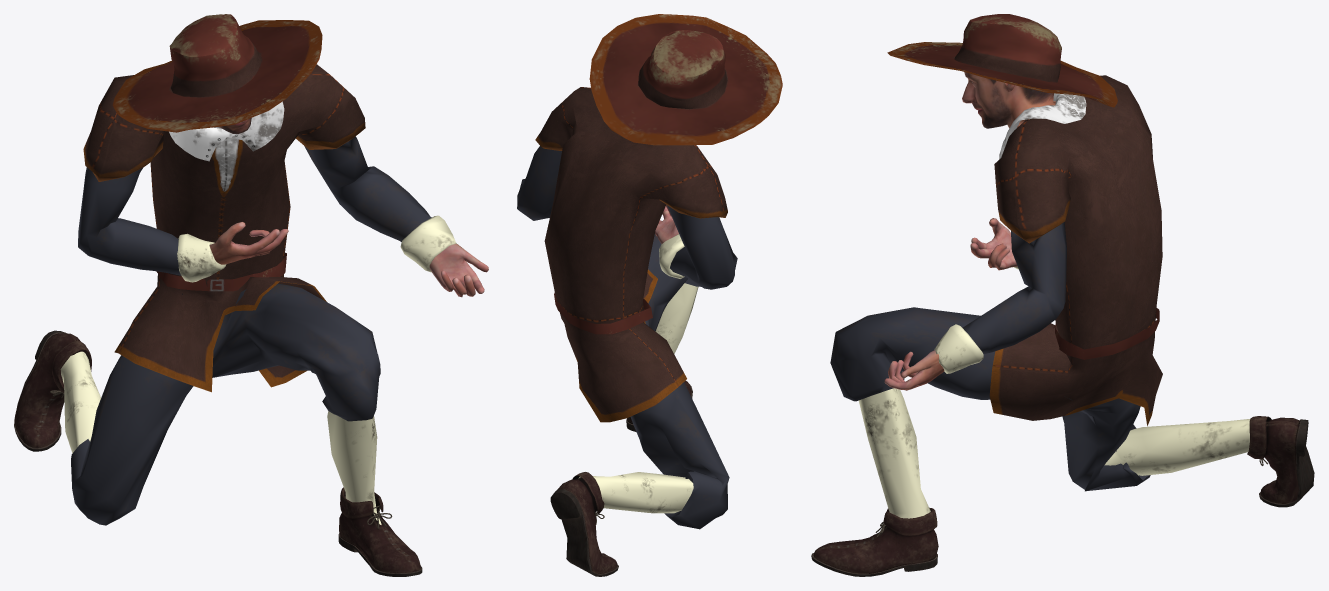
The model's file is CrouchNoAimSoldierSample.fbx.
The picture shows the model from 3 angles, left to right: view 1: azimuth 30°, elevation 25°; view 2: azimuth 150°, elevation 25°; view 3: azimuth 270°, elevation 25°; orthographic projection. The views are drawn at different scales.
Visible parts, largest first — view 1: CrouchNoAimLOD0; view 2: CrouchNoAimLOD0; view 3: CrouchNoAimLOD0.
Boxes of the visible parts, <box> form: CrouchNoAimLOD0: <box>14,14,488,576</box>; CrouchNoAimLOD0: <box>517,14,782,576</box>; CrouchNoAimLOD0: <box>811,14,1314,576</box>.
Size of what is drawn, in the model's own units: 82.54 by 129 by 116.
